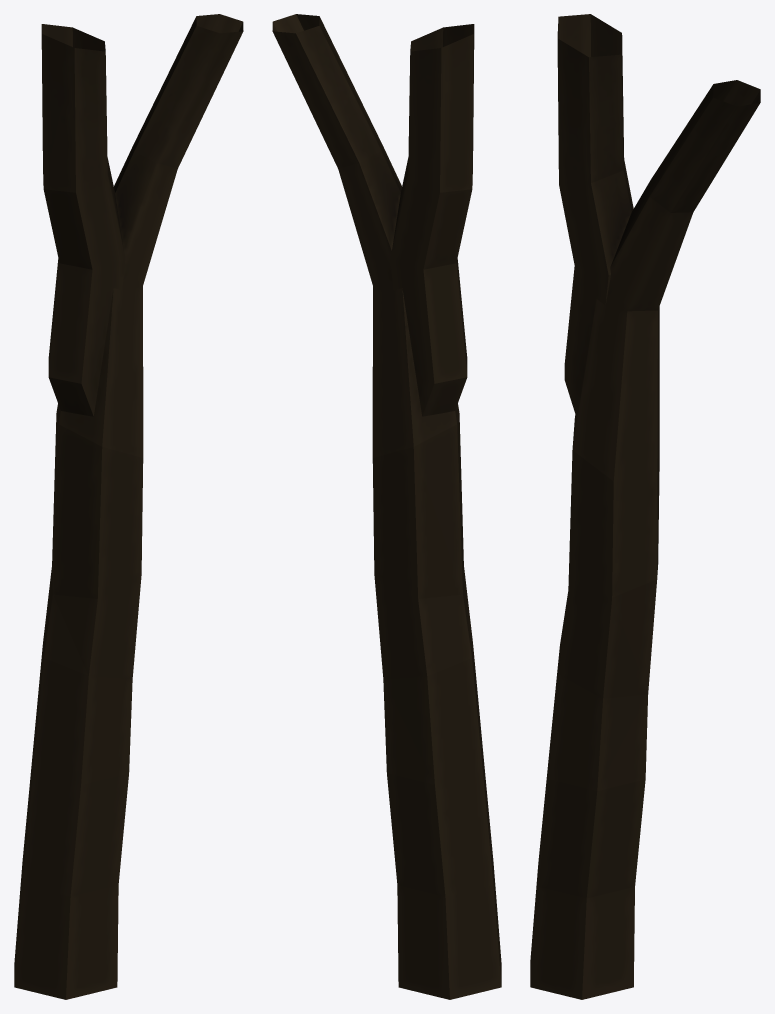
The model's file is AppleTree_Sprout.gltf.
The picture shows the model from 3 angles, left to right: view 1: azimuth 30°, elevation 25°; view 2: azimuth 150°, elevation 25°; view 3: azimuth 330°, elevation 25°; orthographic projection.
Visible parts, largest first — view 1: node-0; view 2: node-0; view 3: node-0.
Boxes of the visible parts, bbox=[...] form: node-0: bbox=[14, 14, 243, 999]; node-0: bbox=[272, 14, 501, 999]; node-0: bbox=[530, 14, 760, 999].
Bounding box in the file's own units: 0.8101 × 3.2 × 0.3155.
Materials: 1 (1 with a texture image).
